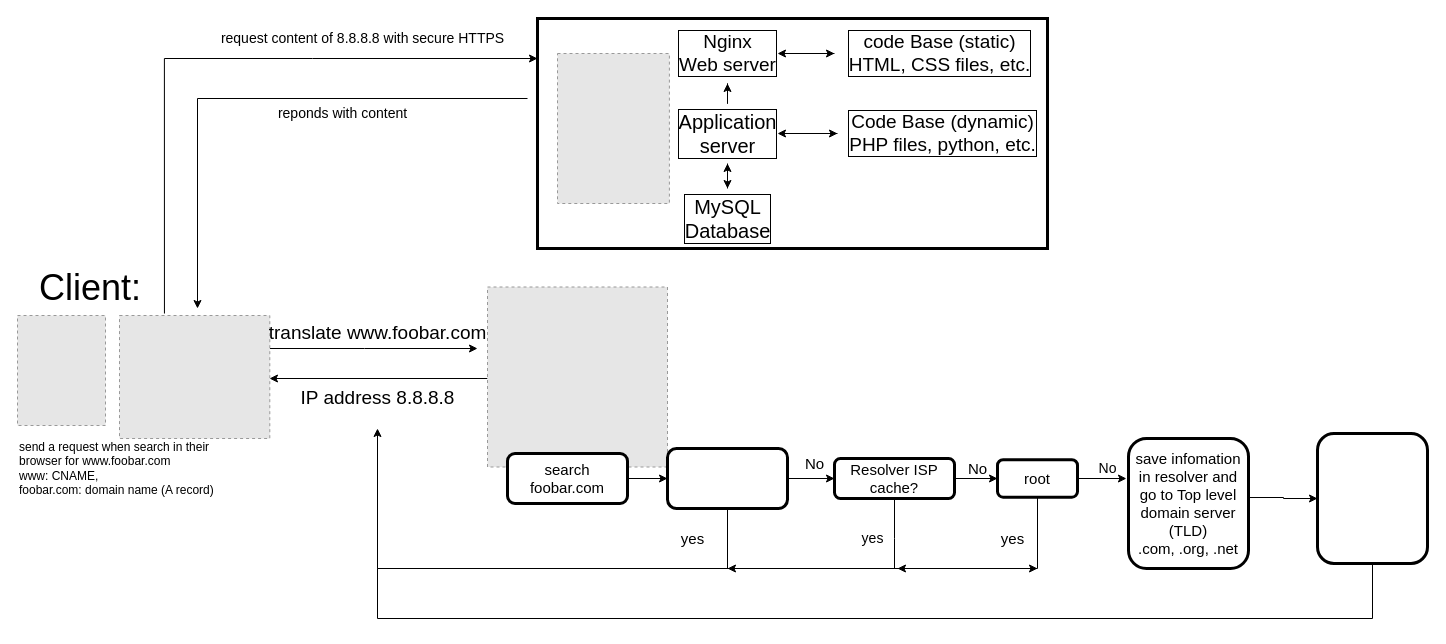
This 1446x644 diagram has some shape labels left out. Grey dashed boxes stand in for pictures. The centre of each missing label's shape, as x and y in pixels:
"browser cache? OS cache?" goes at pixel 727 478.
"TLD gives authority name servers address, look at Domain Registar for IP address" goes at pixel 1372 498.
